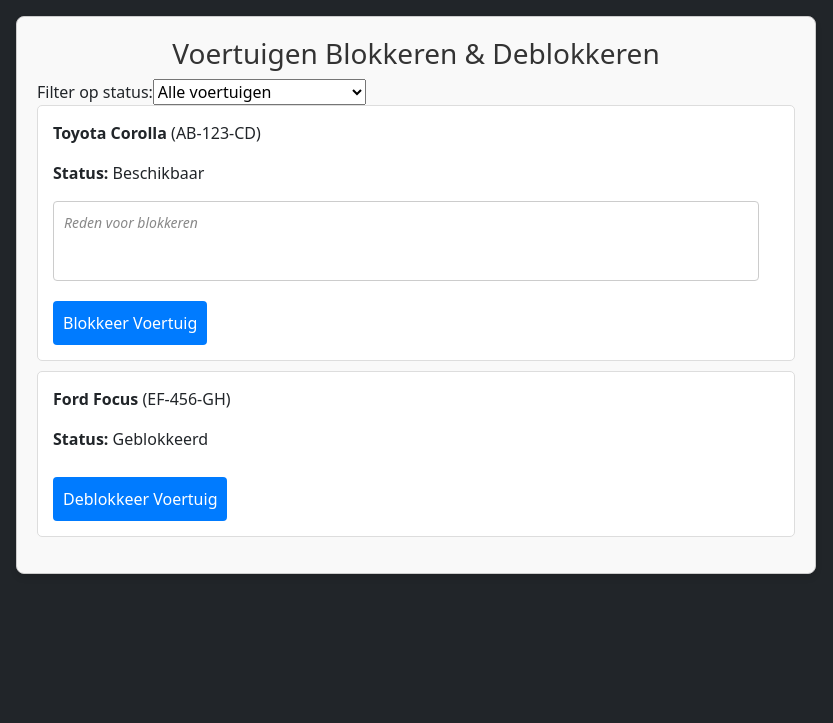
Scenario: VehicleBeheerPage - Voertuigen Blokkeren & Deblokkeren › Moet een voertuig succesvol deblokkeren
Click the button "Deblokkeer Voertuig" at (141, 499), box [53,477,228,521]
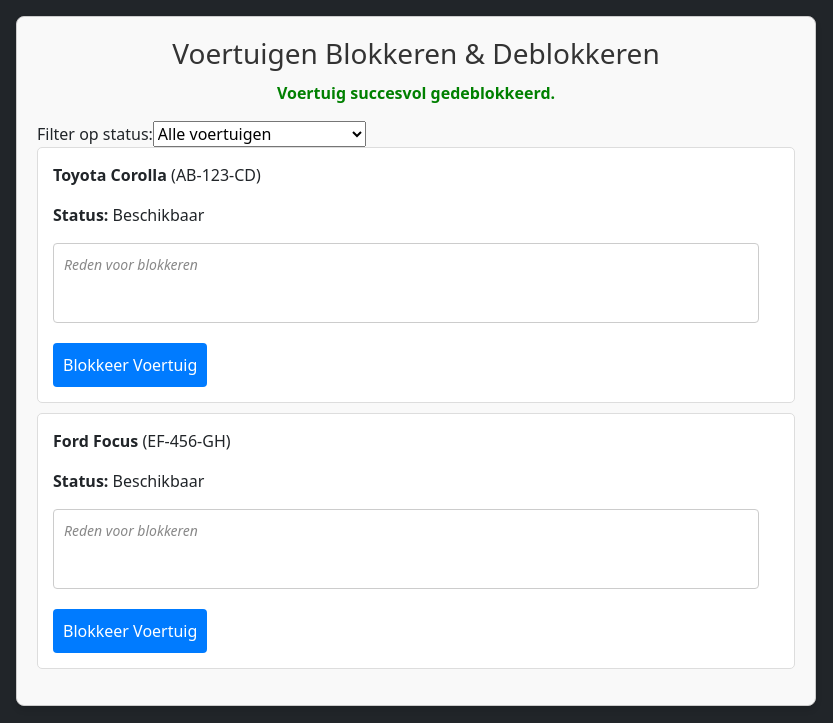
Result: the text "Voertuig succesvol gedeblokkeerd." is shown at [277,82,555,104]
